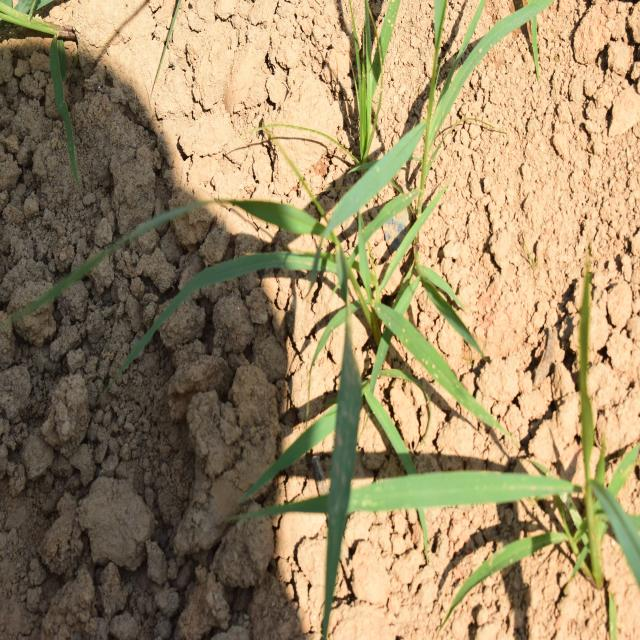green_foxtail: (108, 140, 490, 390), (310, 379, 636, 571)
